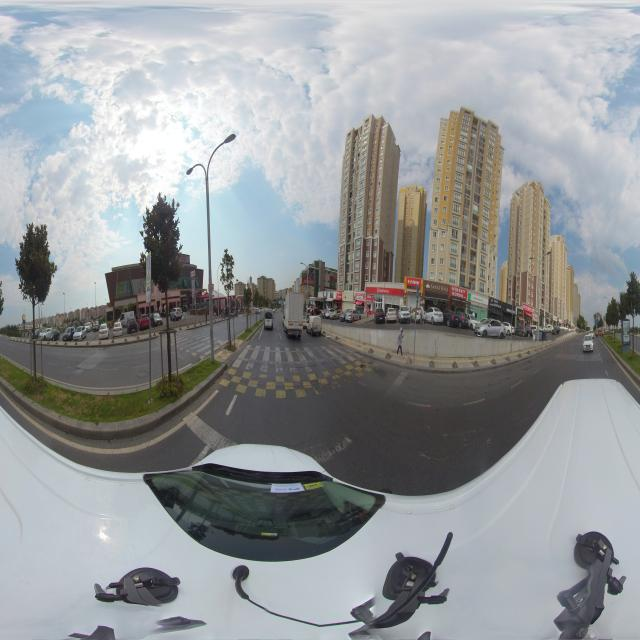SignStore: (425, 280, 449, 295), (366, 287, 404, 296), (468, 293, 488, 306), (450, 285, 467, 299), (407, 277, 421, 287), (490, 297, 501, 309), (523, 303, 533, 314), (120, 289, 129, 297), (533, 308, 538, 320), (356, 292, 364, 299), (336, 290, 342, 299), (517, 308, 523, 317), (181, 293, 188, 298), (545, 312, 550, 318), (506, 308, 512, 313), (540, 309, 544, 316), (553, 315, 557, 321), (550, 314, 553, 320), (323, 292, 327, 296), (330, 292, 332, 298), (513, 310, 515, 314), (557, 318, 559, 322), (559, 319, 561, 323), (564, 319, 565, 322)
